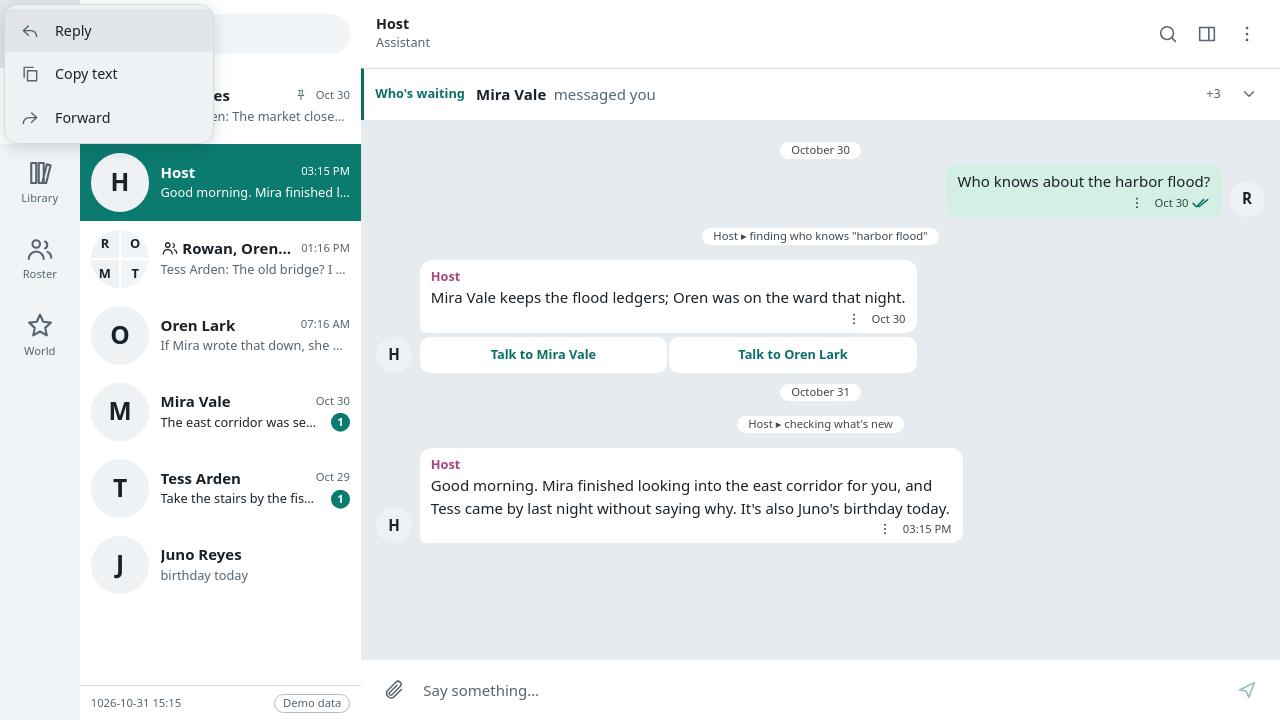
Test: the picker lists the favorites, the host and every person, the one in the current chat included
Click the menu item "Forward" at (109, 118), box [5,96,213,139]
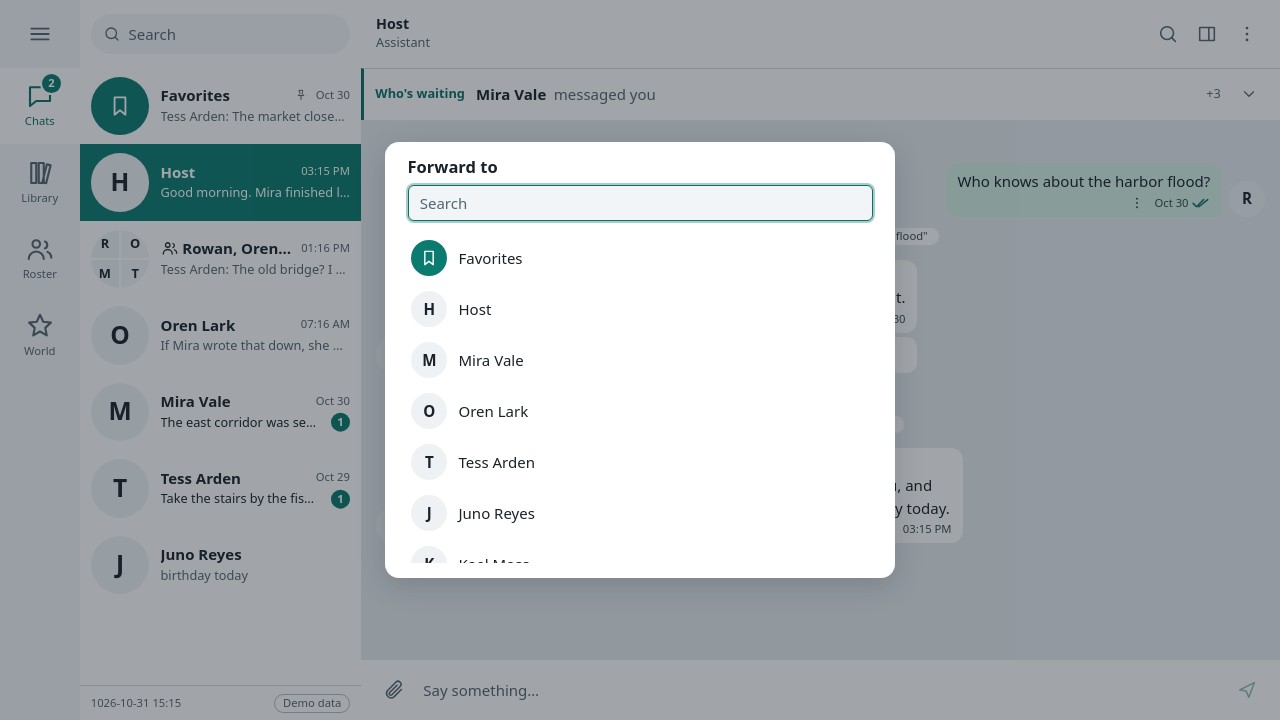
Type "ti" into the search field at (640, 203), box [408,185,872,221]
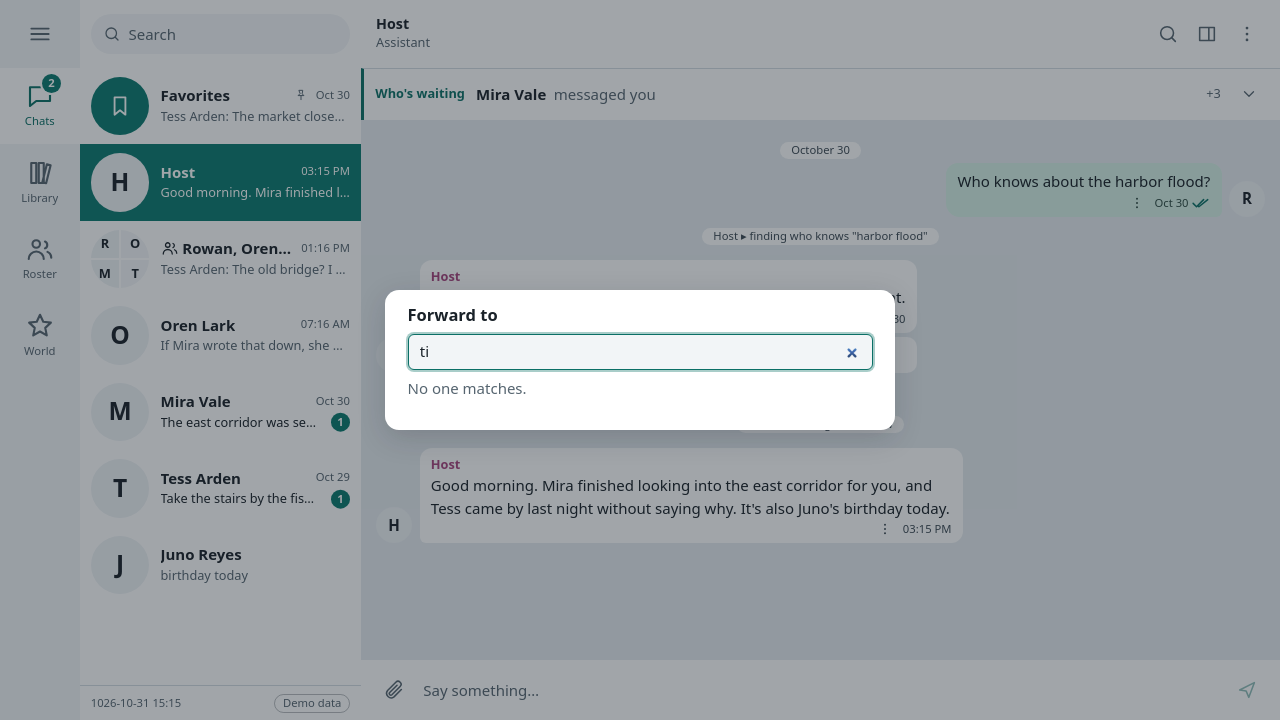
Clear the search field at (640, 352), box [408,334,872,370]
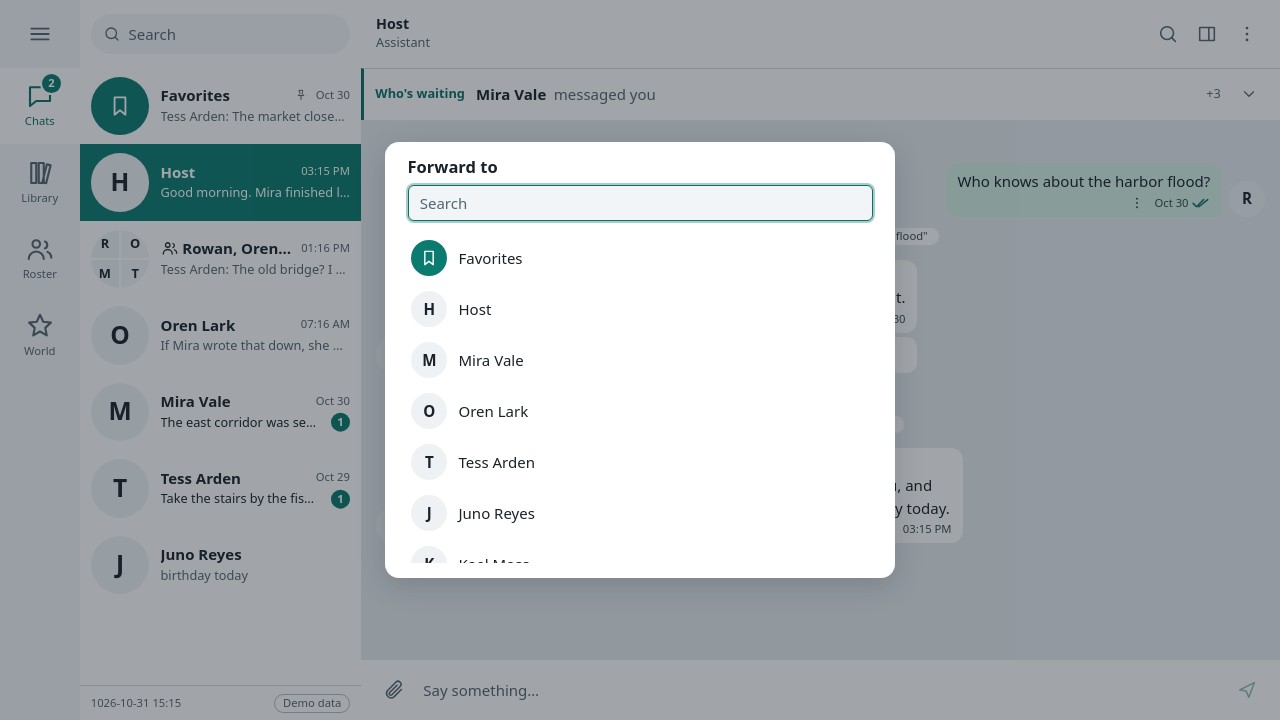
Type "zzz" into the search field at (640, 203), box [408,185,872,221]
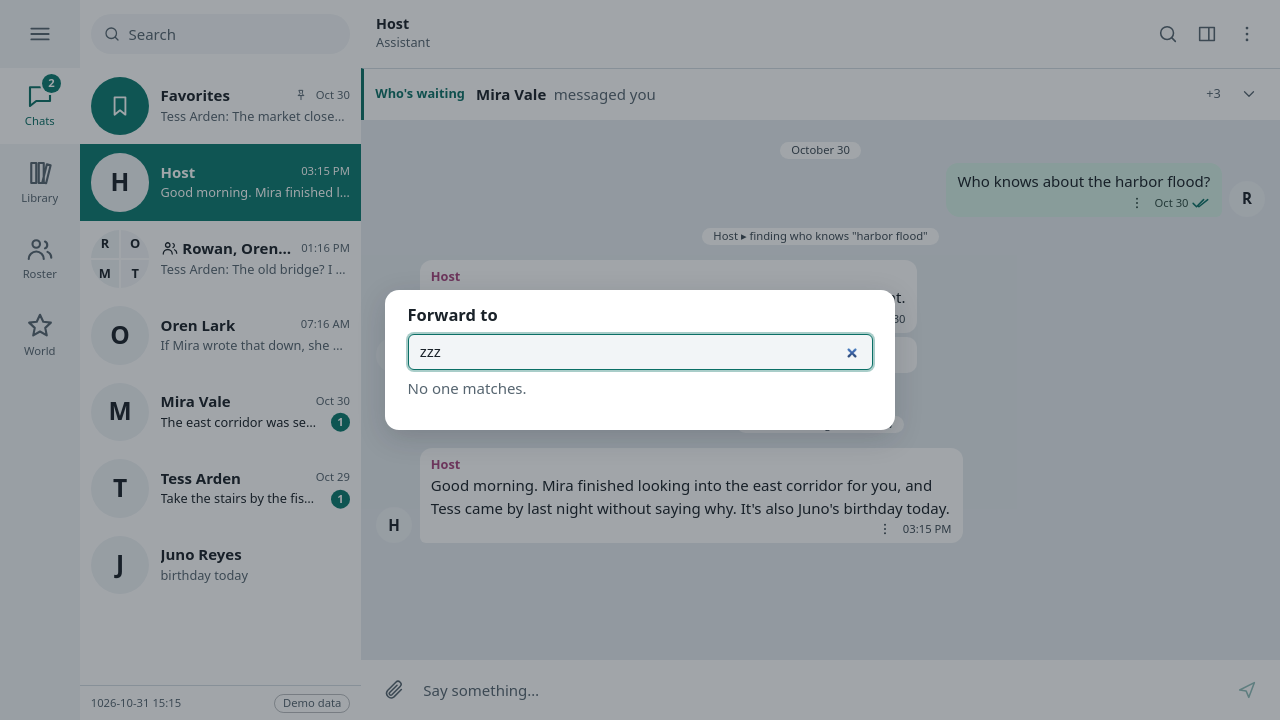
Expected: the text "No one matches." is shown, [408,378,527,398]
